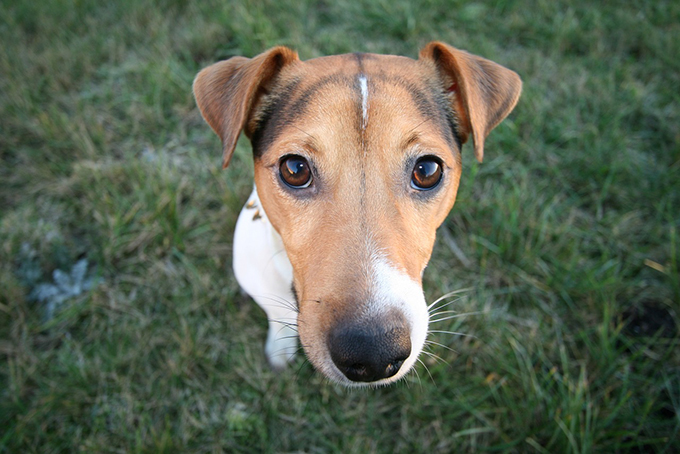dog: (191, 41, 526, 393)
